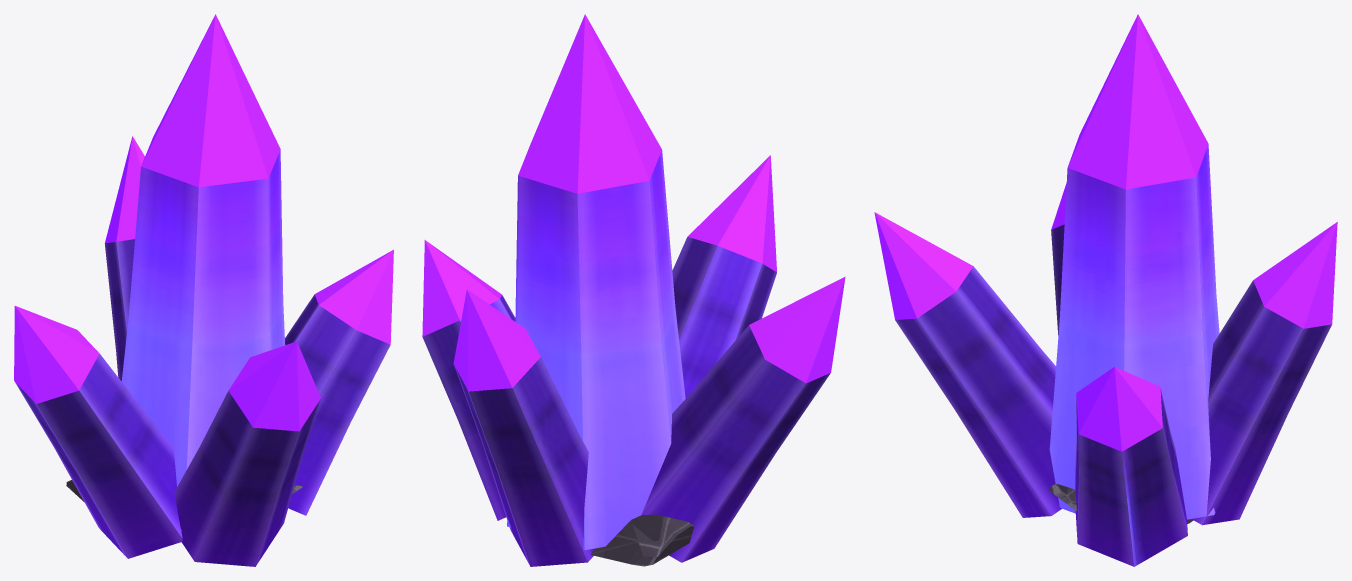
The model's file is res_crystal_low.glb.
3 views of the same model, side by side, from view 1: azimuth 30°, elevation 25°; view 2: azimuth 150°, elevation 25°; view 3: azimuth 270°, elevation 25° (orthographic). The views are drawn at different scales.
Visible parts, largest first — view 1: res_crystal_low; view 2: res_crystal_low; view 3: res_crystal_low.
Part boxes in pixels (x1,y1,x2,y2): res_crystal_low: [14, 14, 393, 566]; res_crystal_low: [422, 14, 845, 566]; res_crystal_low: [874, 14, 1337, 566].
Bounding box in the file's own units: 0.8216 × 1.01 × 0.8297.
3 materials, 2 textured.
